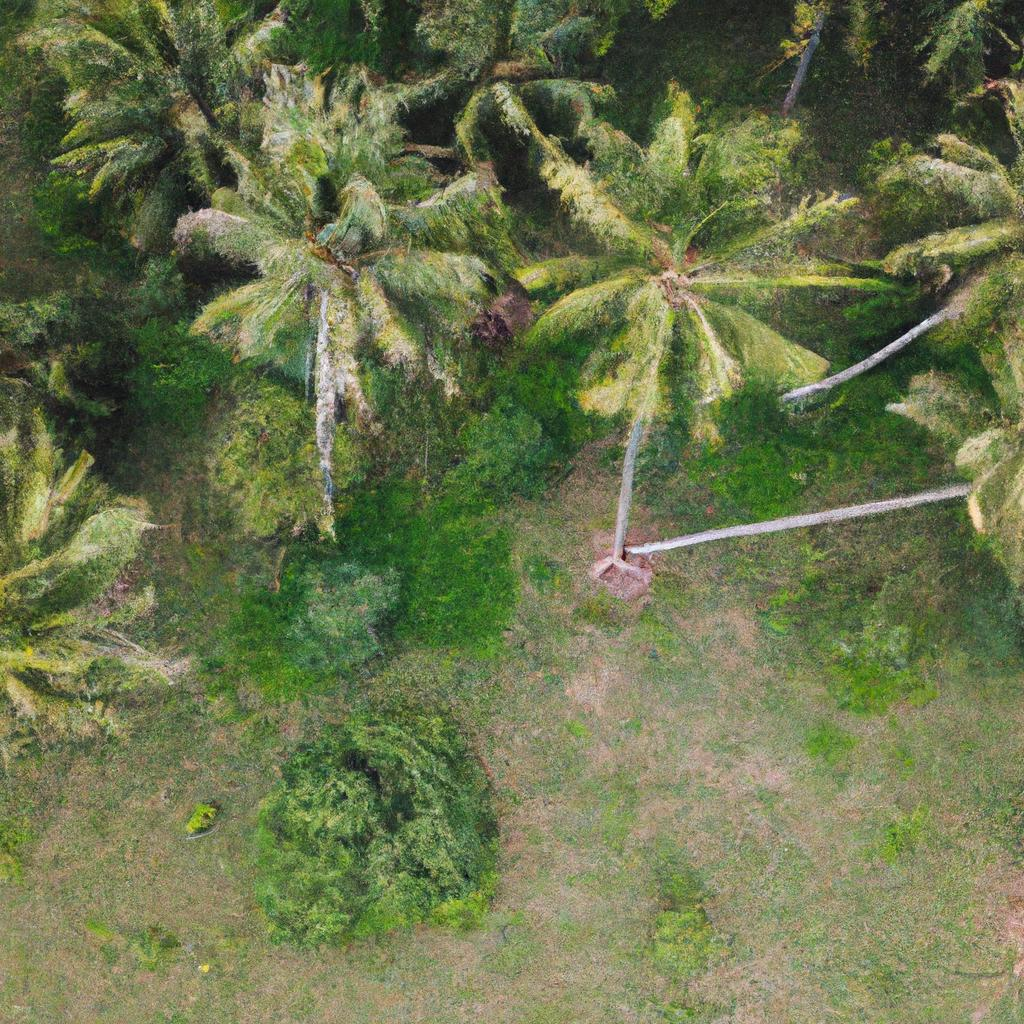coconut_tree: (157, 58, 505, 447), (533, 86, 878, 456)
